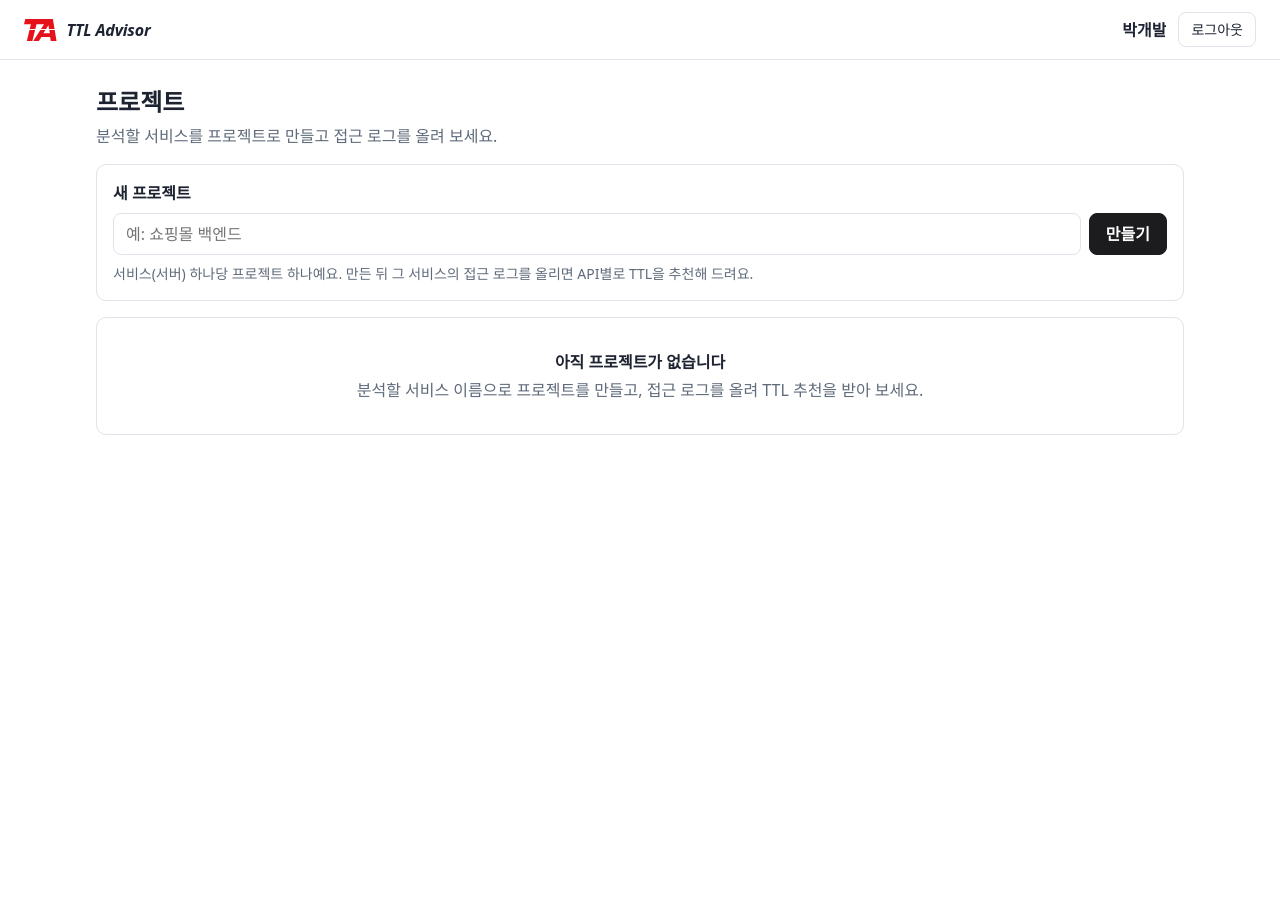
로그아웃 실패와 CSRF › 로그인 없이 쓰기 요청을 보내면 403(CSRF) → 토큰 재발급 → 401을 거쳐 로그인 화면으로 간다
This screenshot has width=1280, height=900.
Type "쇼핑몰" into the field labelled "새 프로젝트".
click(597, 234); type("쇼핑몰")  # box [113, 213, 1081, 255]
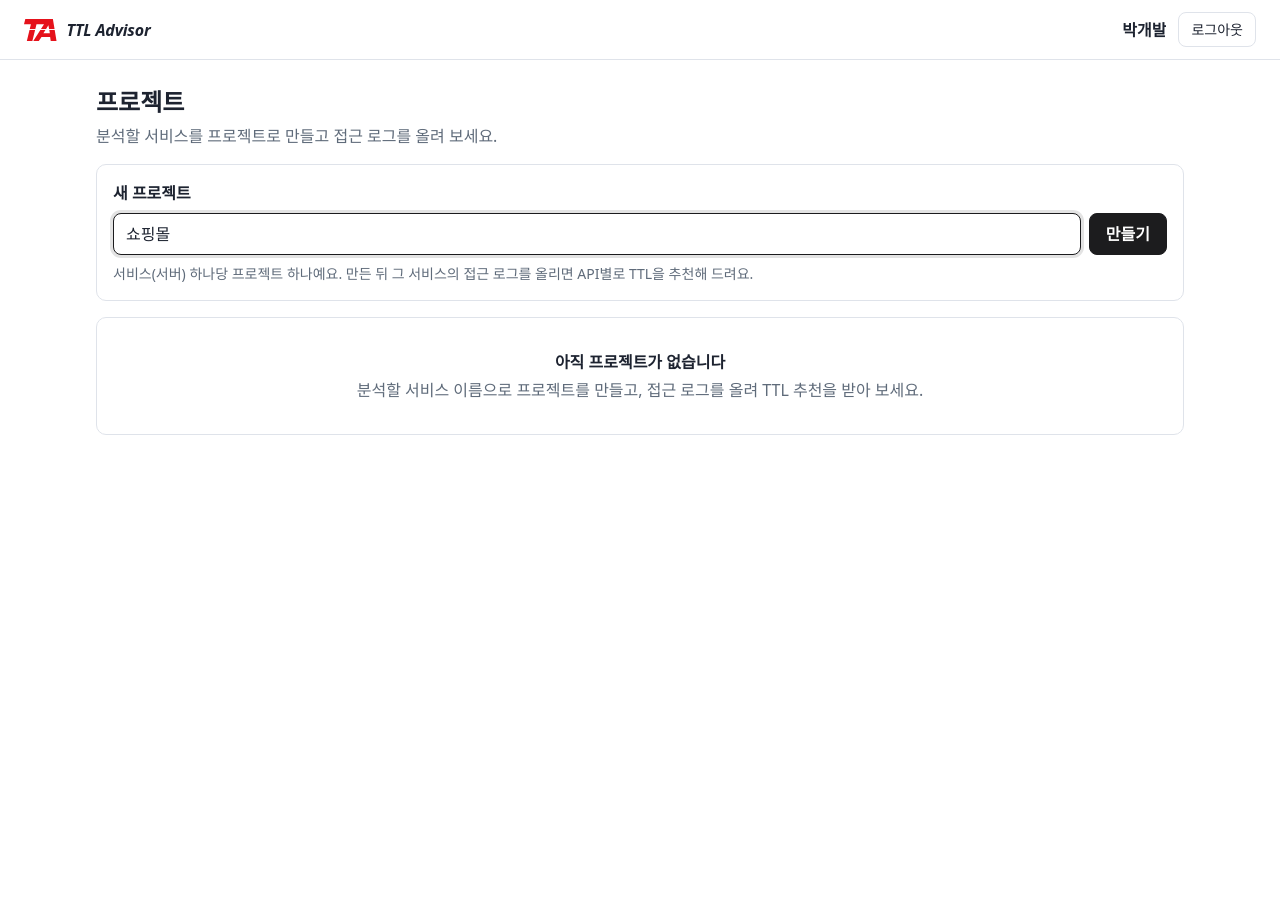
Click the button "만들기".
click(1128, 234)  # box [1089, 213, 1167, 255]
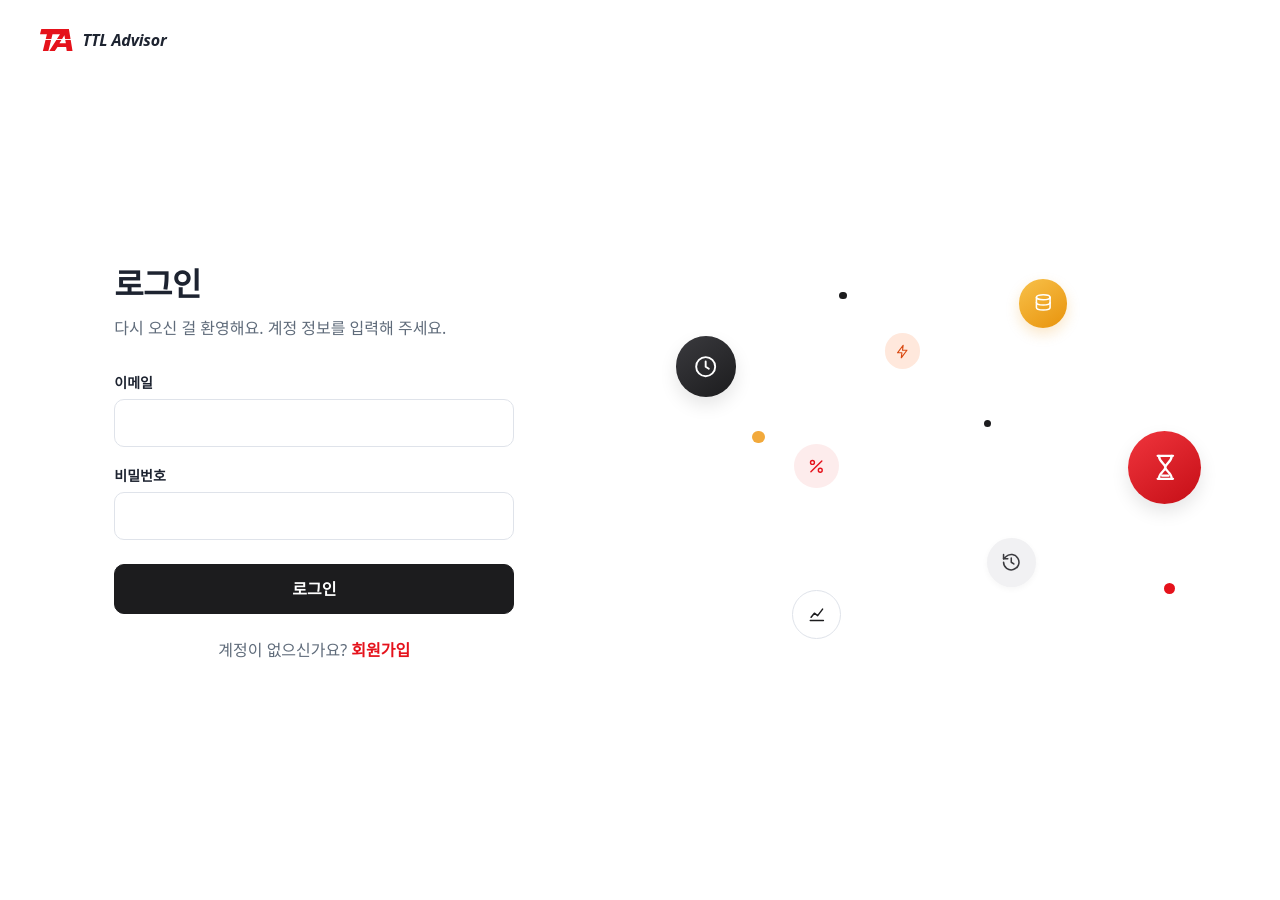
Check: the heading "로그인" is shown, box [114, 262, 201, 304]
